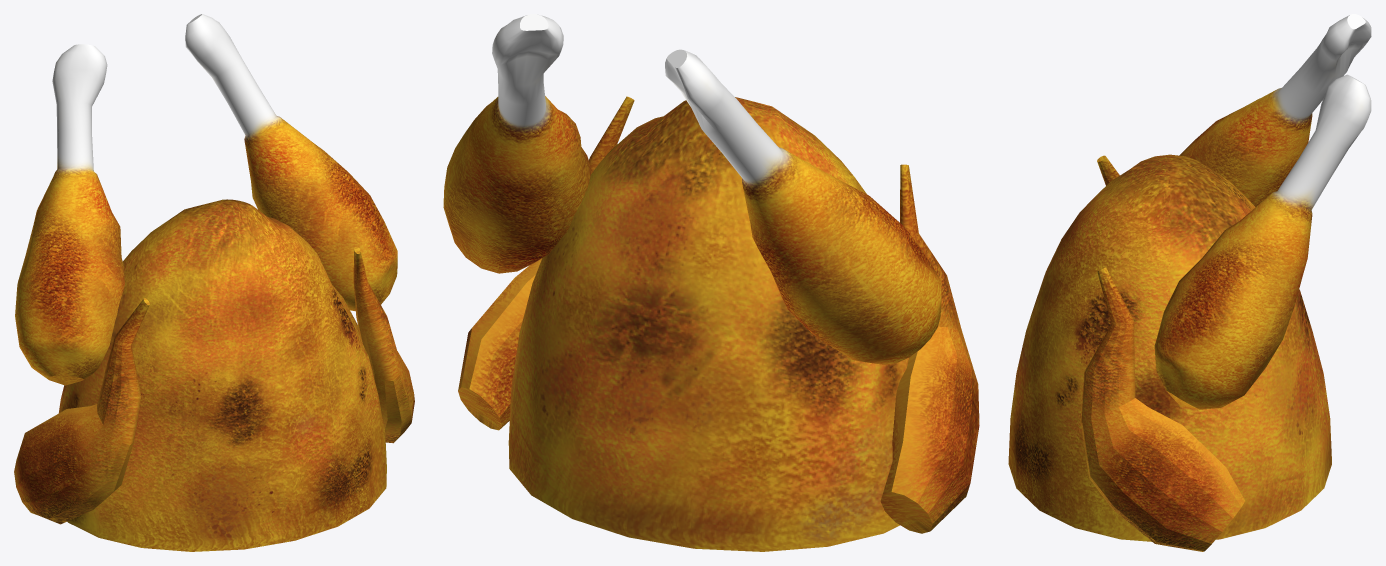
File: objChickenHat.fbx
3 renders of one model, left to right at view 1: azimuth 30°, elevation 25°; view 2: azimuth 150°, elevation 25°; view 3: azimuth 270°, elevation 25°, orthographic. The views are drawn at different scales.
Visible parts, largest first — view 1: objChickenHat; view 2: objChickenHat; view 3: objChickenHat.
Boxes of the visible parts, box(x1,y1,x2,y2) form: objChickenHat: box(14, 14, 414, 551); objChickenHat: box(443, 14, 979, 551); objChickenHat: box(1008, 14, 1371, 551).
Size of the model in its own units: 0.7798 by 0.7745 by 0.6029.
